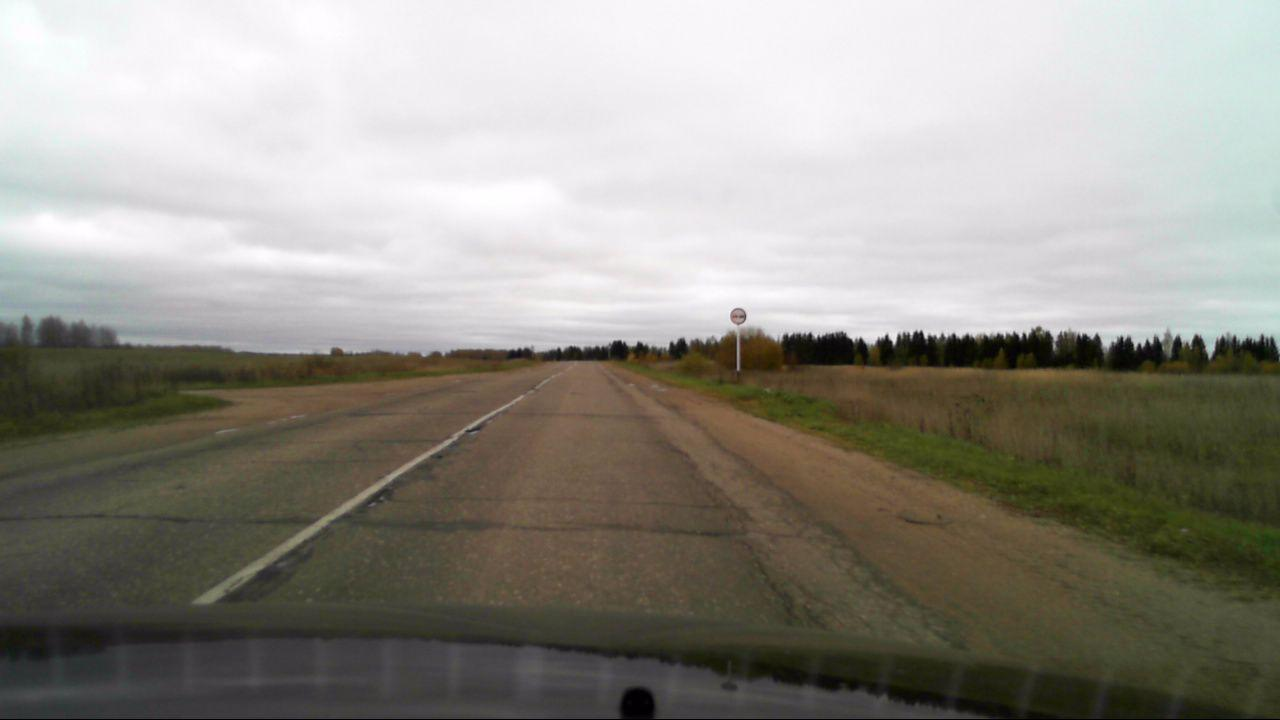road_sign: (729, 307, 747, 326)
